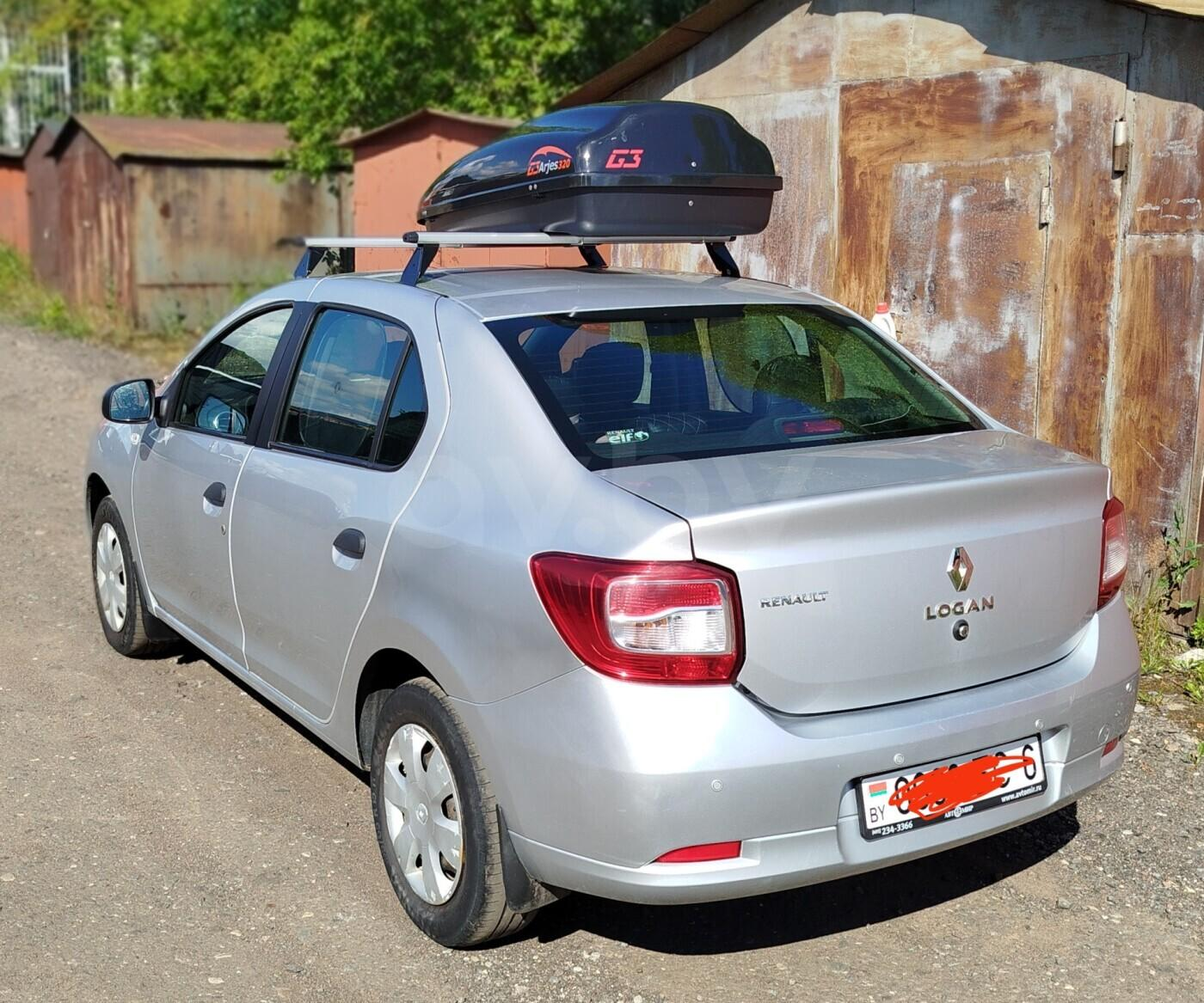Logan_2013-2018: (80, 264, 1135, 954)
